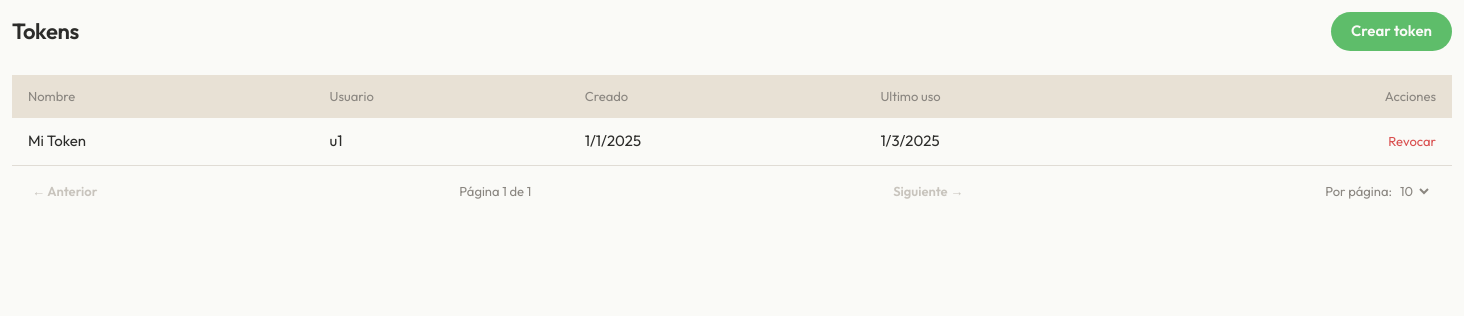
Test: AdminTokensPage › shows ConfirmDialog with "Revocar" when revoke clicked
The width and height of the screenshot is (1464, 316).
Expected: the text "Mi Token" is shown, [12,118,314,165]
Click the button "Revocar": x=1412, y=141 [1388,132,1436,151]
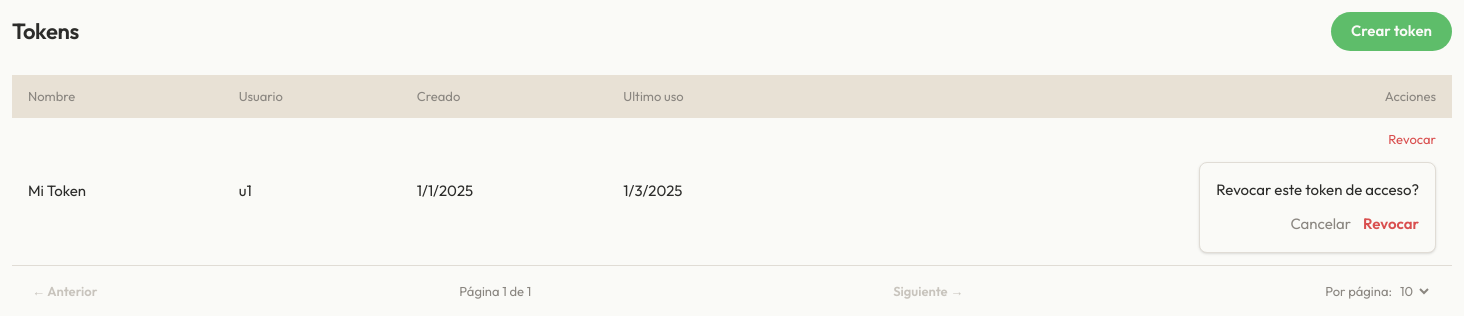
Expected: the text "Revocar este token de acceso?" is shown, [1216,178,1419,201]
